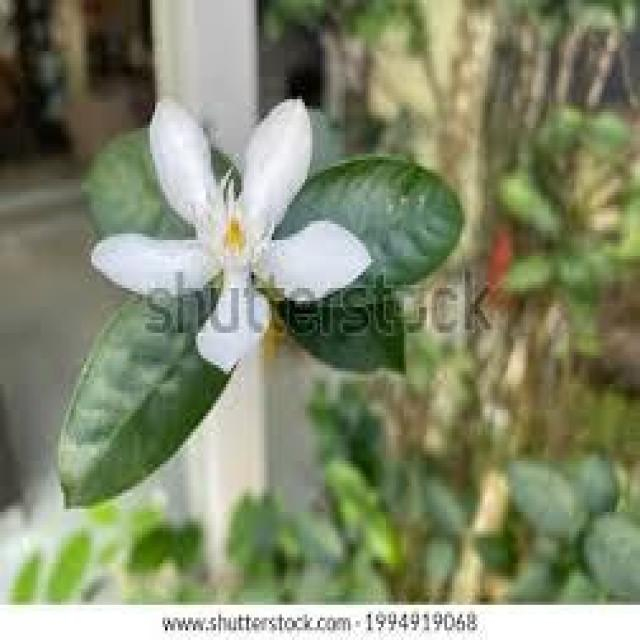organic waste: (78, 83, 372, 371)
